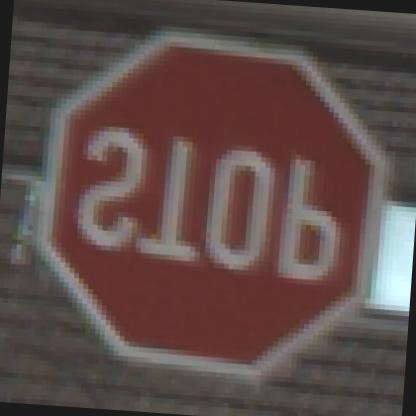stop: (27, 30, 394, 385)
